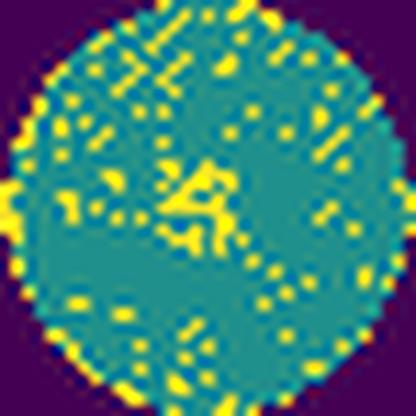Center: (155, 155, 241, 260)
